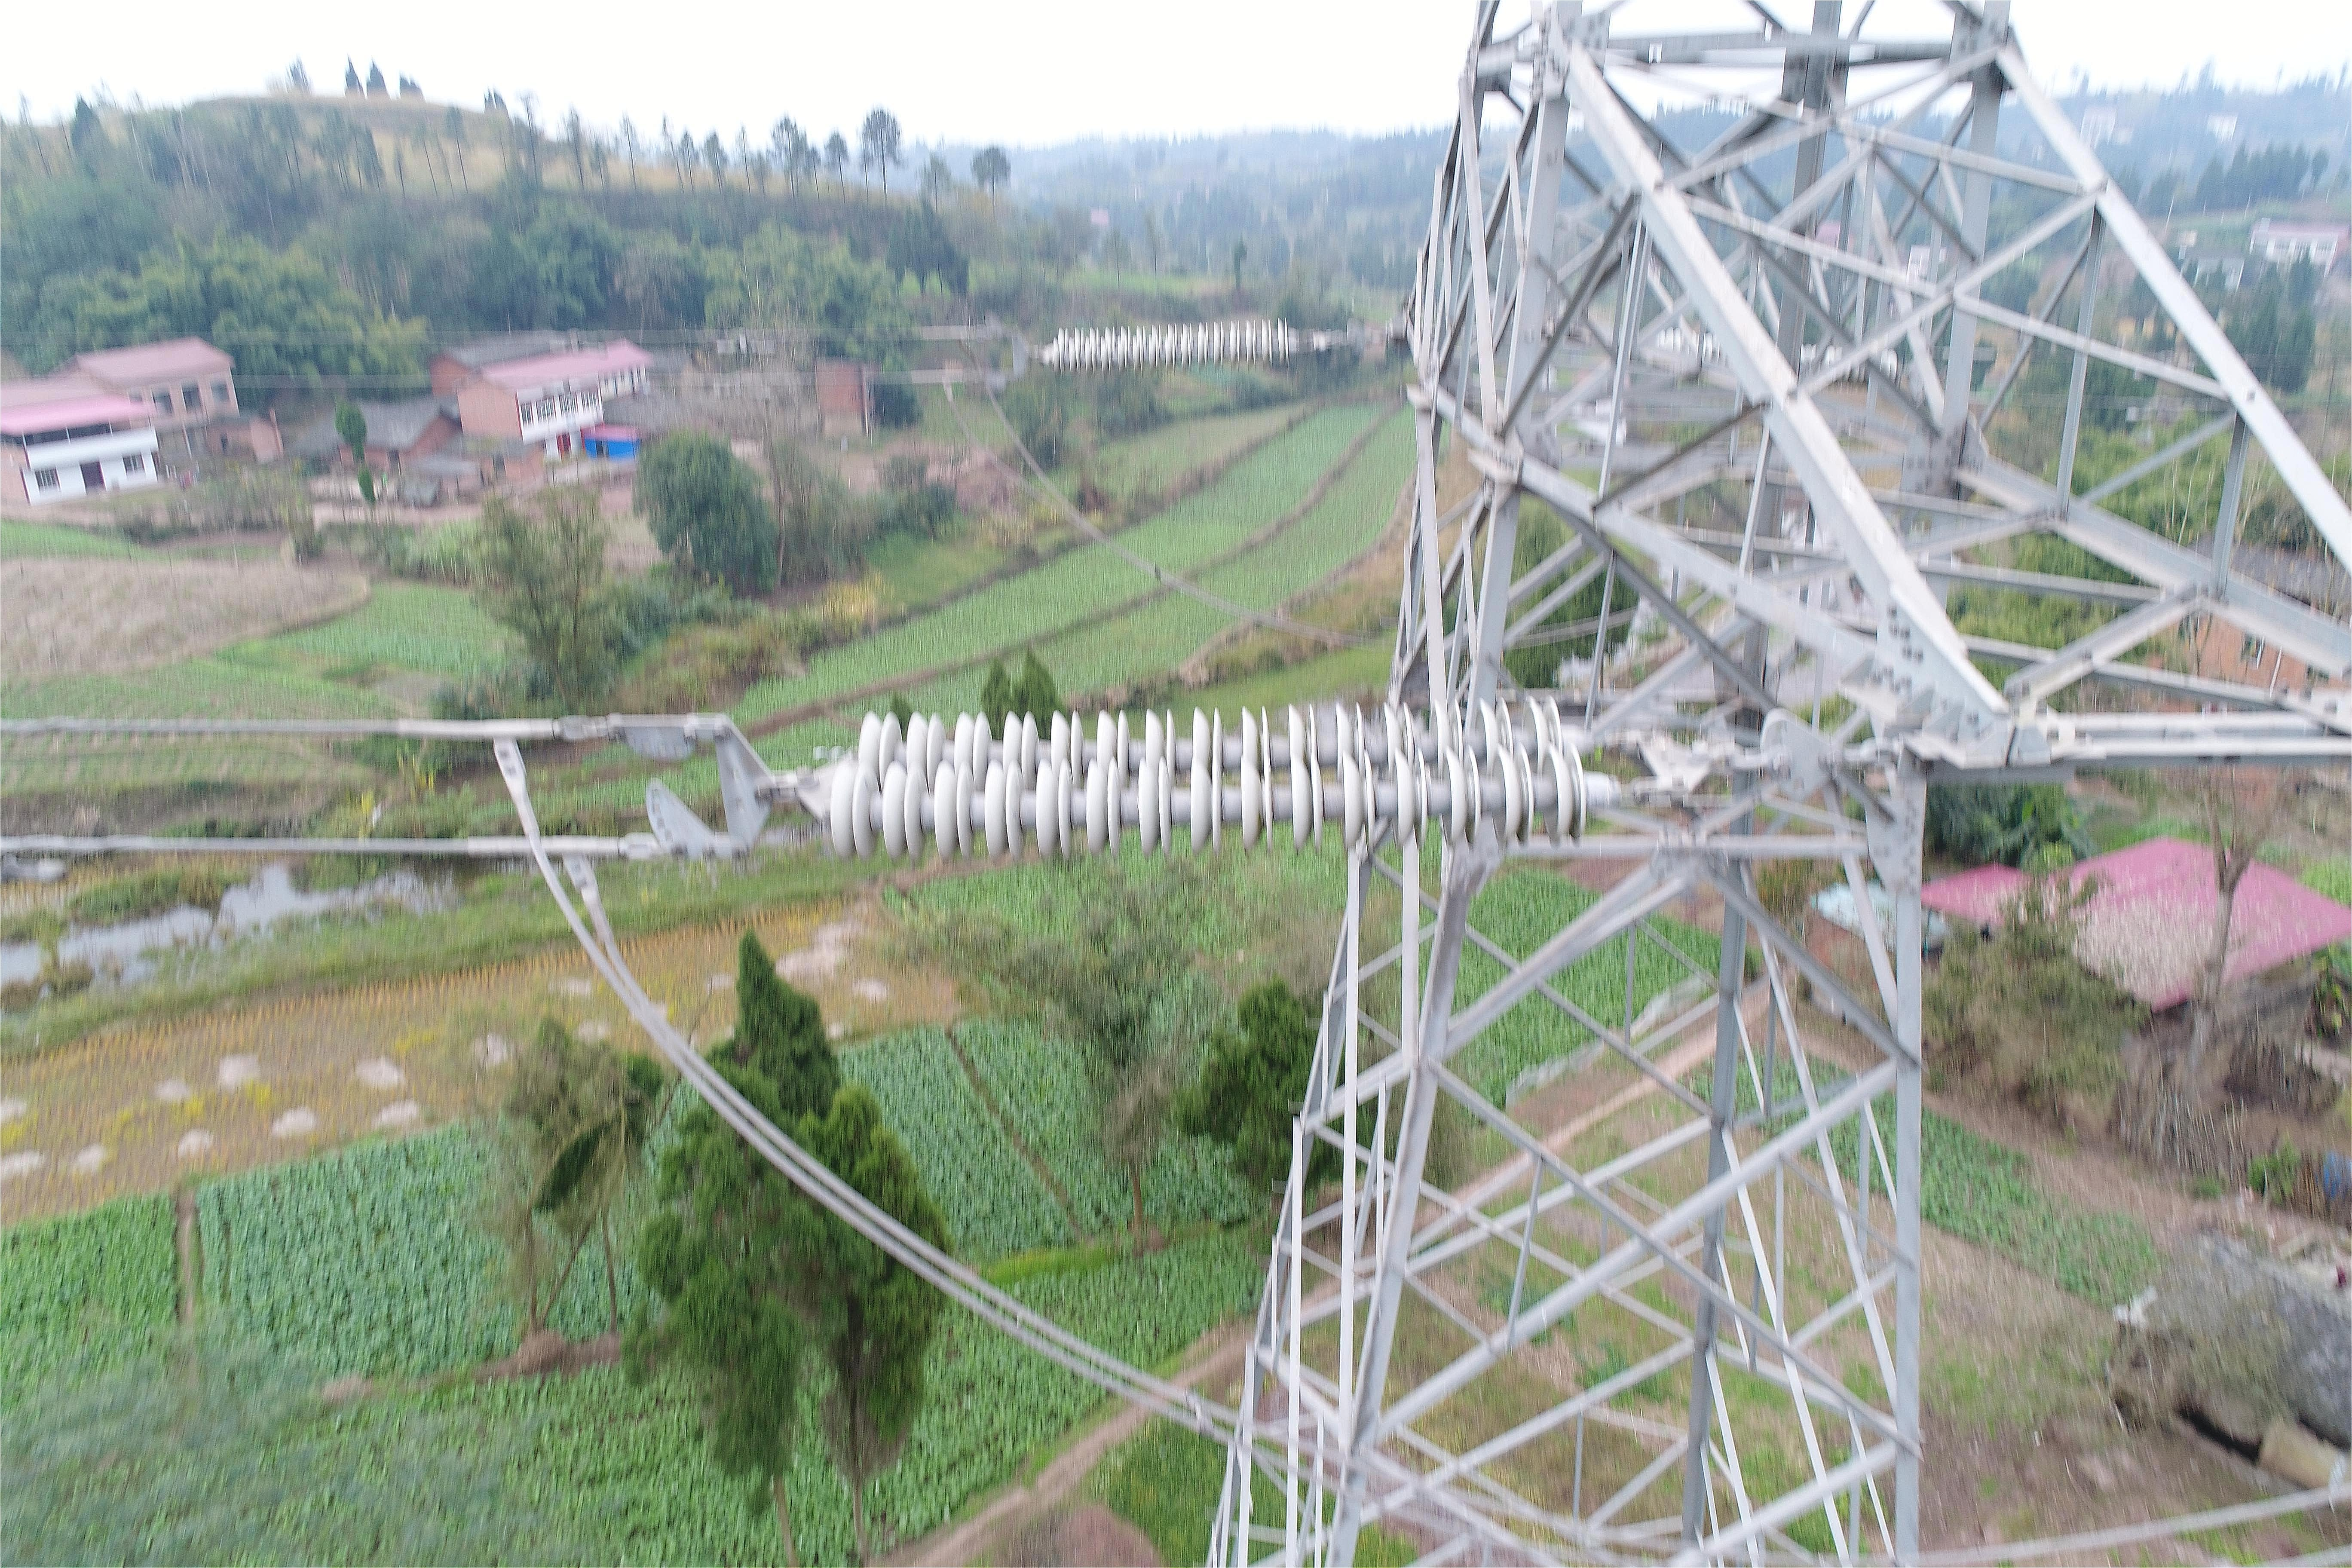insultor4: (821, 695, 1591, 861), (1046, 317, 1297, 373)
